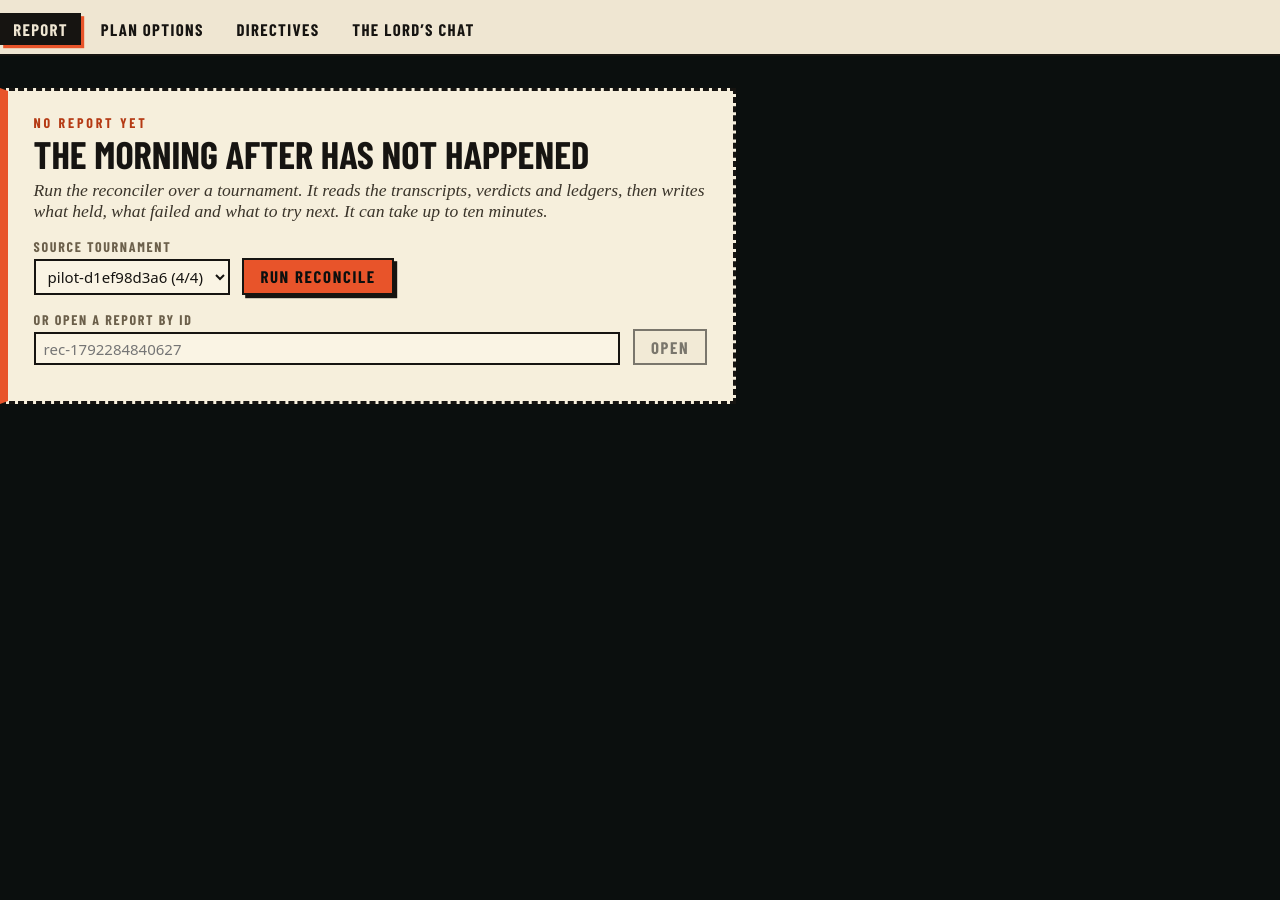
Scenario: reconcile/report › shows the designed empty state and runs reconcile into the report
Click the 1st button named "Run reconcile" at [318, 276], box [242,258,394,295]
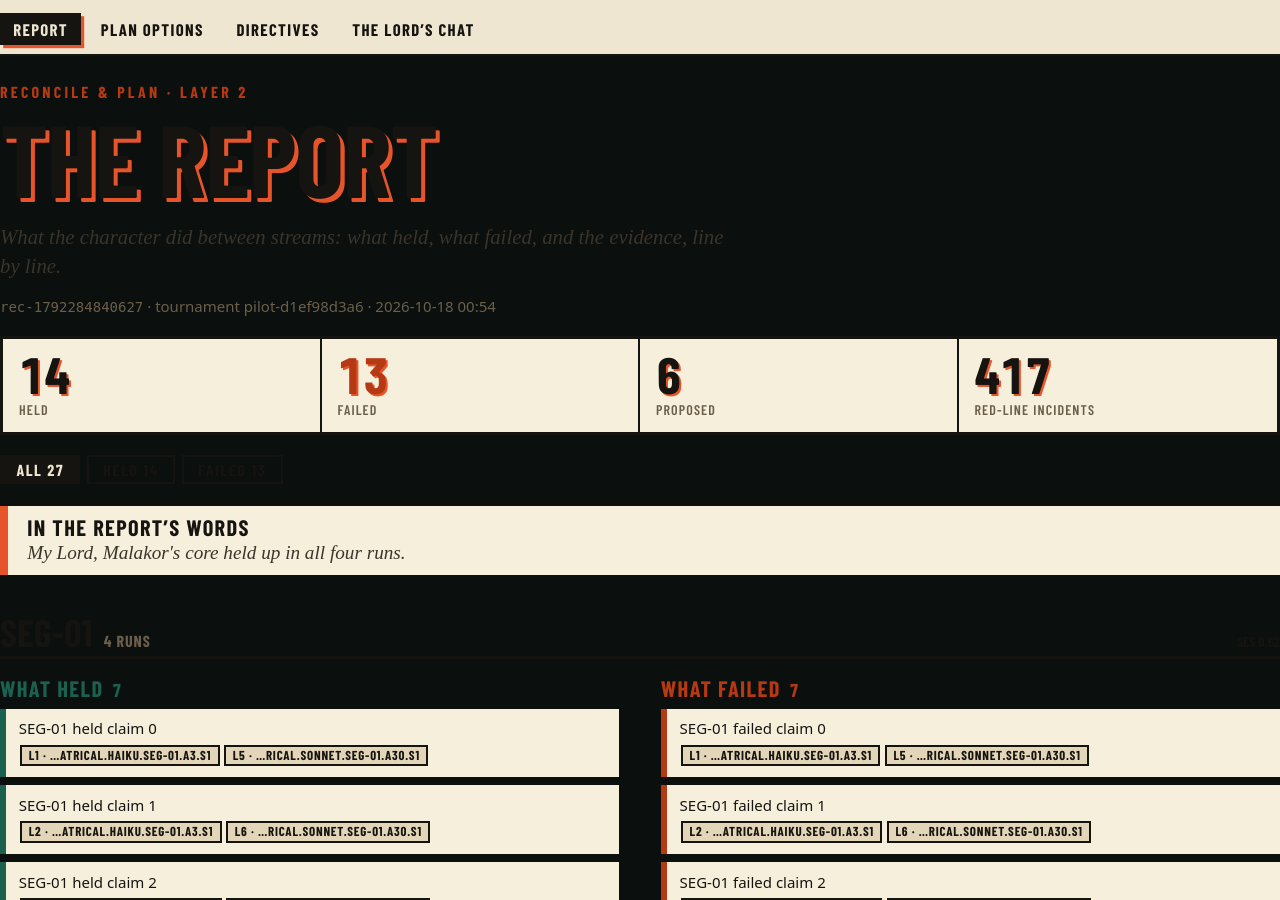
Check: the text "My Lord, Malakor's core held up in all four runs." is shown, box [27,542,406,563]
